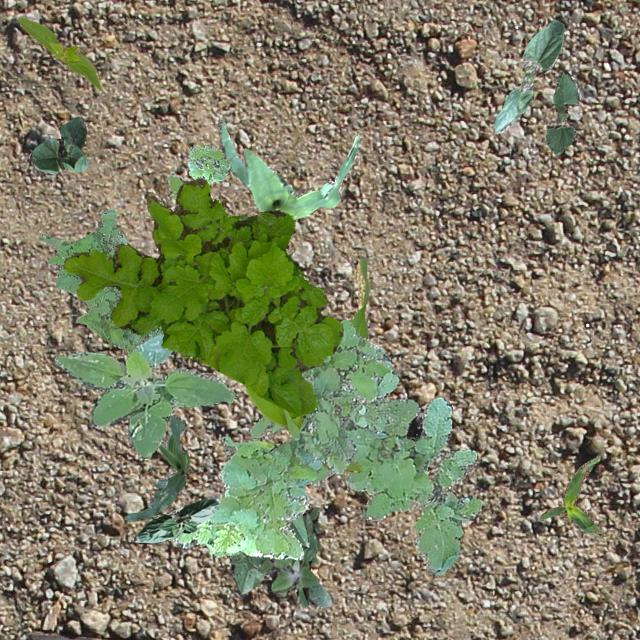crop: (244, 258, 368, 472), (217, 118, 361, 218), (492, 18, 564, 132), (122, 414, 188, 520), (18, 15, 102, 90), (538, 454, 604, 536), (132, 494, 218, 544), (28, 115, 88, 173), (544, 70, 578, 154), (229, 550, 269, 594), (286, 514, 308, 546)
weed: (62, 178, 342, 416), (168, 318, 398, 558), (250, 344, 480, 574), (54, 333, 235, 458), (37, 208, 163, 354), (256, 506, 332, 606), (187, 144, 230, 183), (166, 172, 184, 198)
